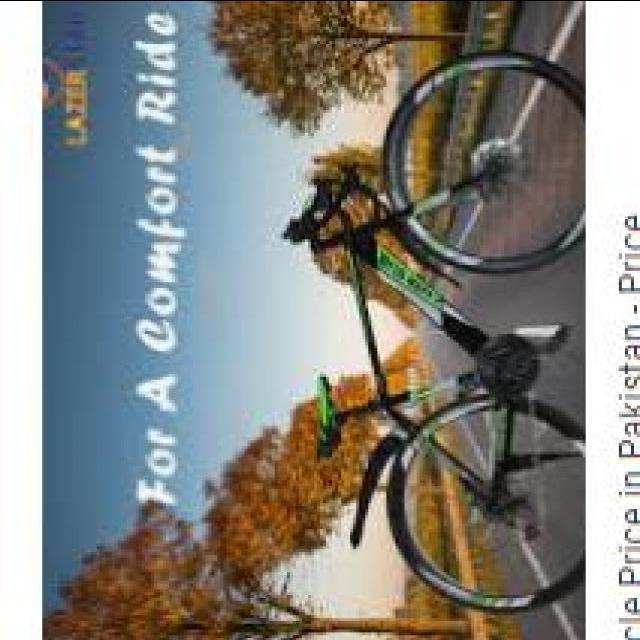bicycle: (288, 41, 581, 615)
